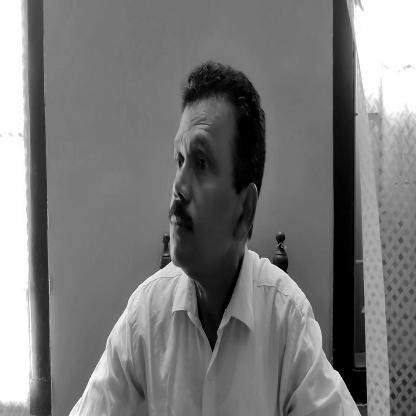Distracted: (166, 64, 269, 286)
